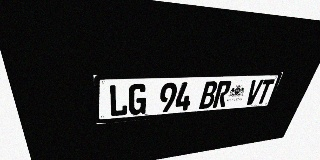4: (174, 82, 194, 111)
9: (158, 82, 178, 113)
B: (199, 81, 219, 109)
G: (128, 83, 148, 115)
L: (108, 84, 128, 117)
R: (212, 81, 232, 108)
T: (255, 79, 275, 104)
V: (244, 80, 264, 105)
